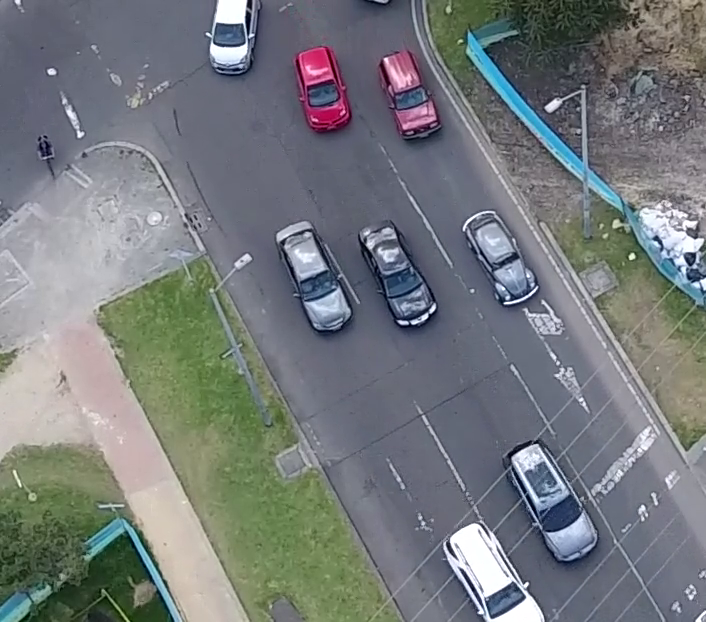car: (502, 432, 599, 566), (355, 217, 440, 332), (273, 217, 354, 337), (460, 208, 541, 306), (375, 47, 446, 144), (292, 43, 353, 135)
